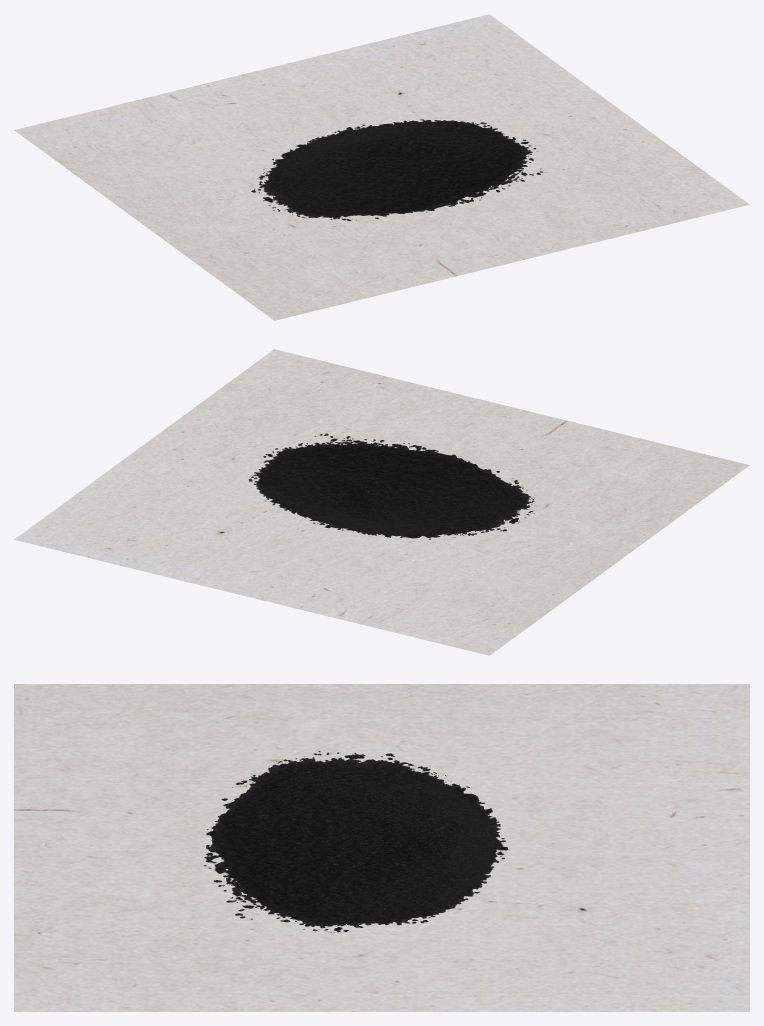
Rendered from SM_黑粉末.FBX.
3 renders of one model, top to bottom at view 1: azimuth 30°, elevation 25°; view 2: azimuth 150°, elevation 25°; view 3: azimuth 270°, elevation 25°, orthographic. The views are drawn at different scales.
Parts seen in each view (by area): view 1: SM_纸003, SM_Heifen; view 2: SM_纸003, SM_Heifen; view 3: SM_纸003, SM_Heifen.
Part boxes in pixels (left/top/right/bottom): SM_纸003: left=14, top=14, right=749, bottom=320; SM_Heifen: left=251, top=119, right=543, bottom=220; SM_纸003: left=14, top=349, right=749, bottom=655; SM_Heifen: left=248, top=433, right=534, bottom=539; SM_纸003: left=14, top=684, right=749, bottom=1011; SM_Heifen: left=203, top=751, right=508, bottom=932.
Size of the model in its own units: 112 by 1.06 by 106.
